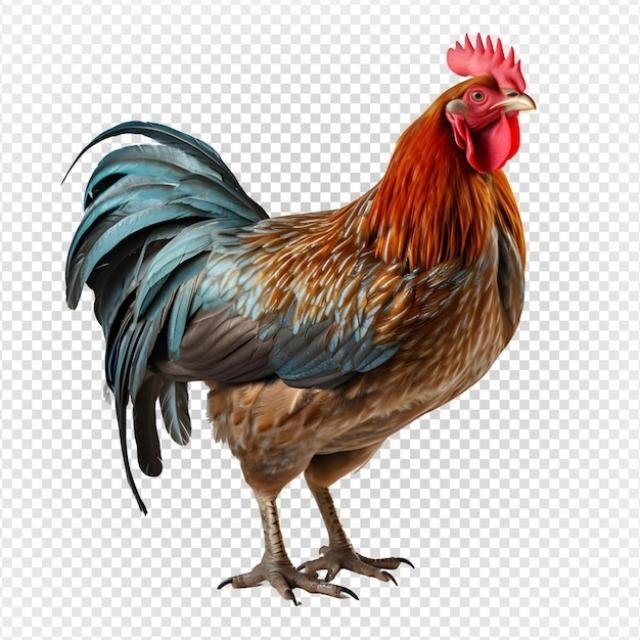Chicken: (59, 31, 538, 603)
